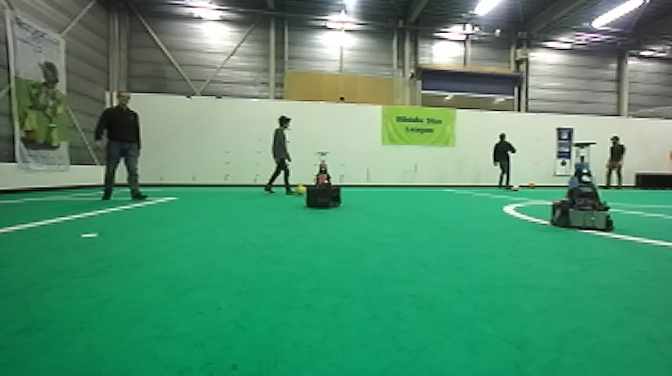ball: (523, 178, 541, 191), (293, 183, 306, 198), (510, 181, 524, 193)
human: (94, 87, 149, 204), (261, 115, 295, 195), (492, 132, 520, 190), (602, 134, 627, 191)
robot: (548, 140, 617, 235), (304, 147, 344, 212)
